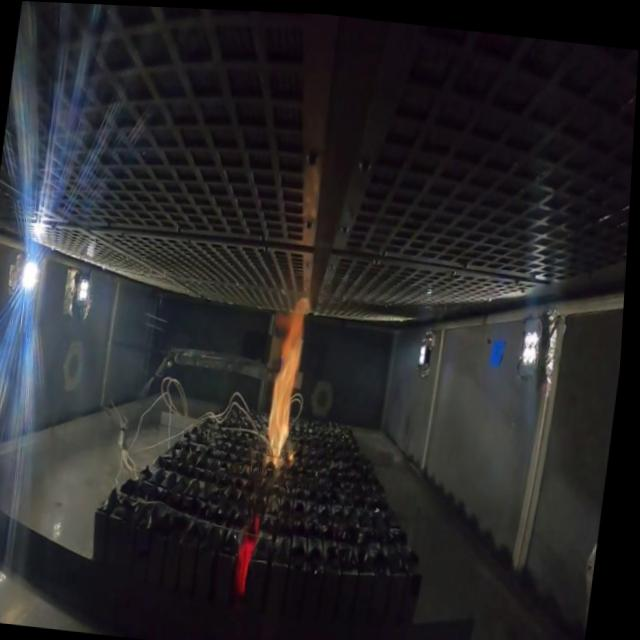fire: (253, 284, 325, 476)
